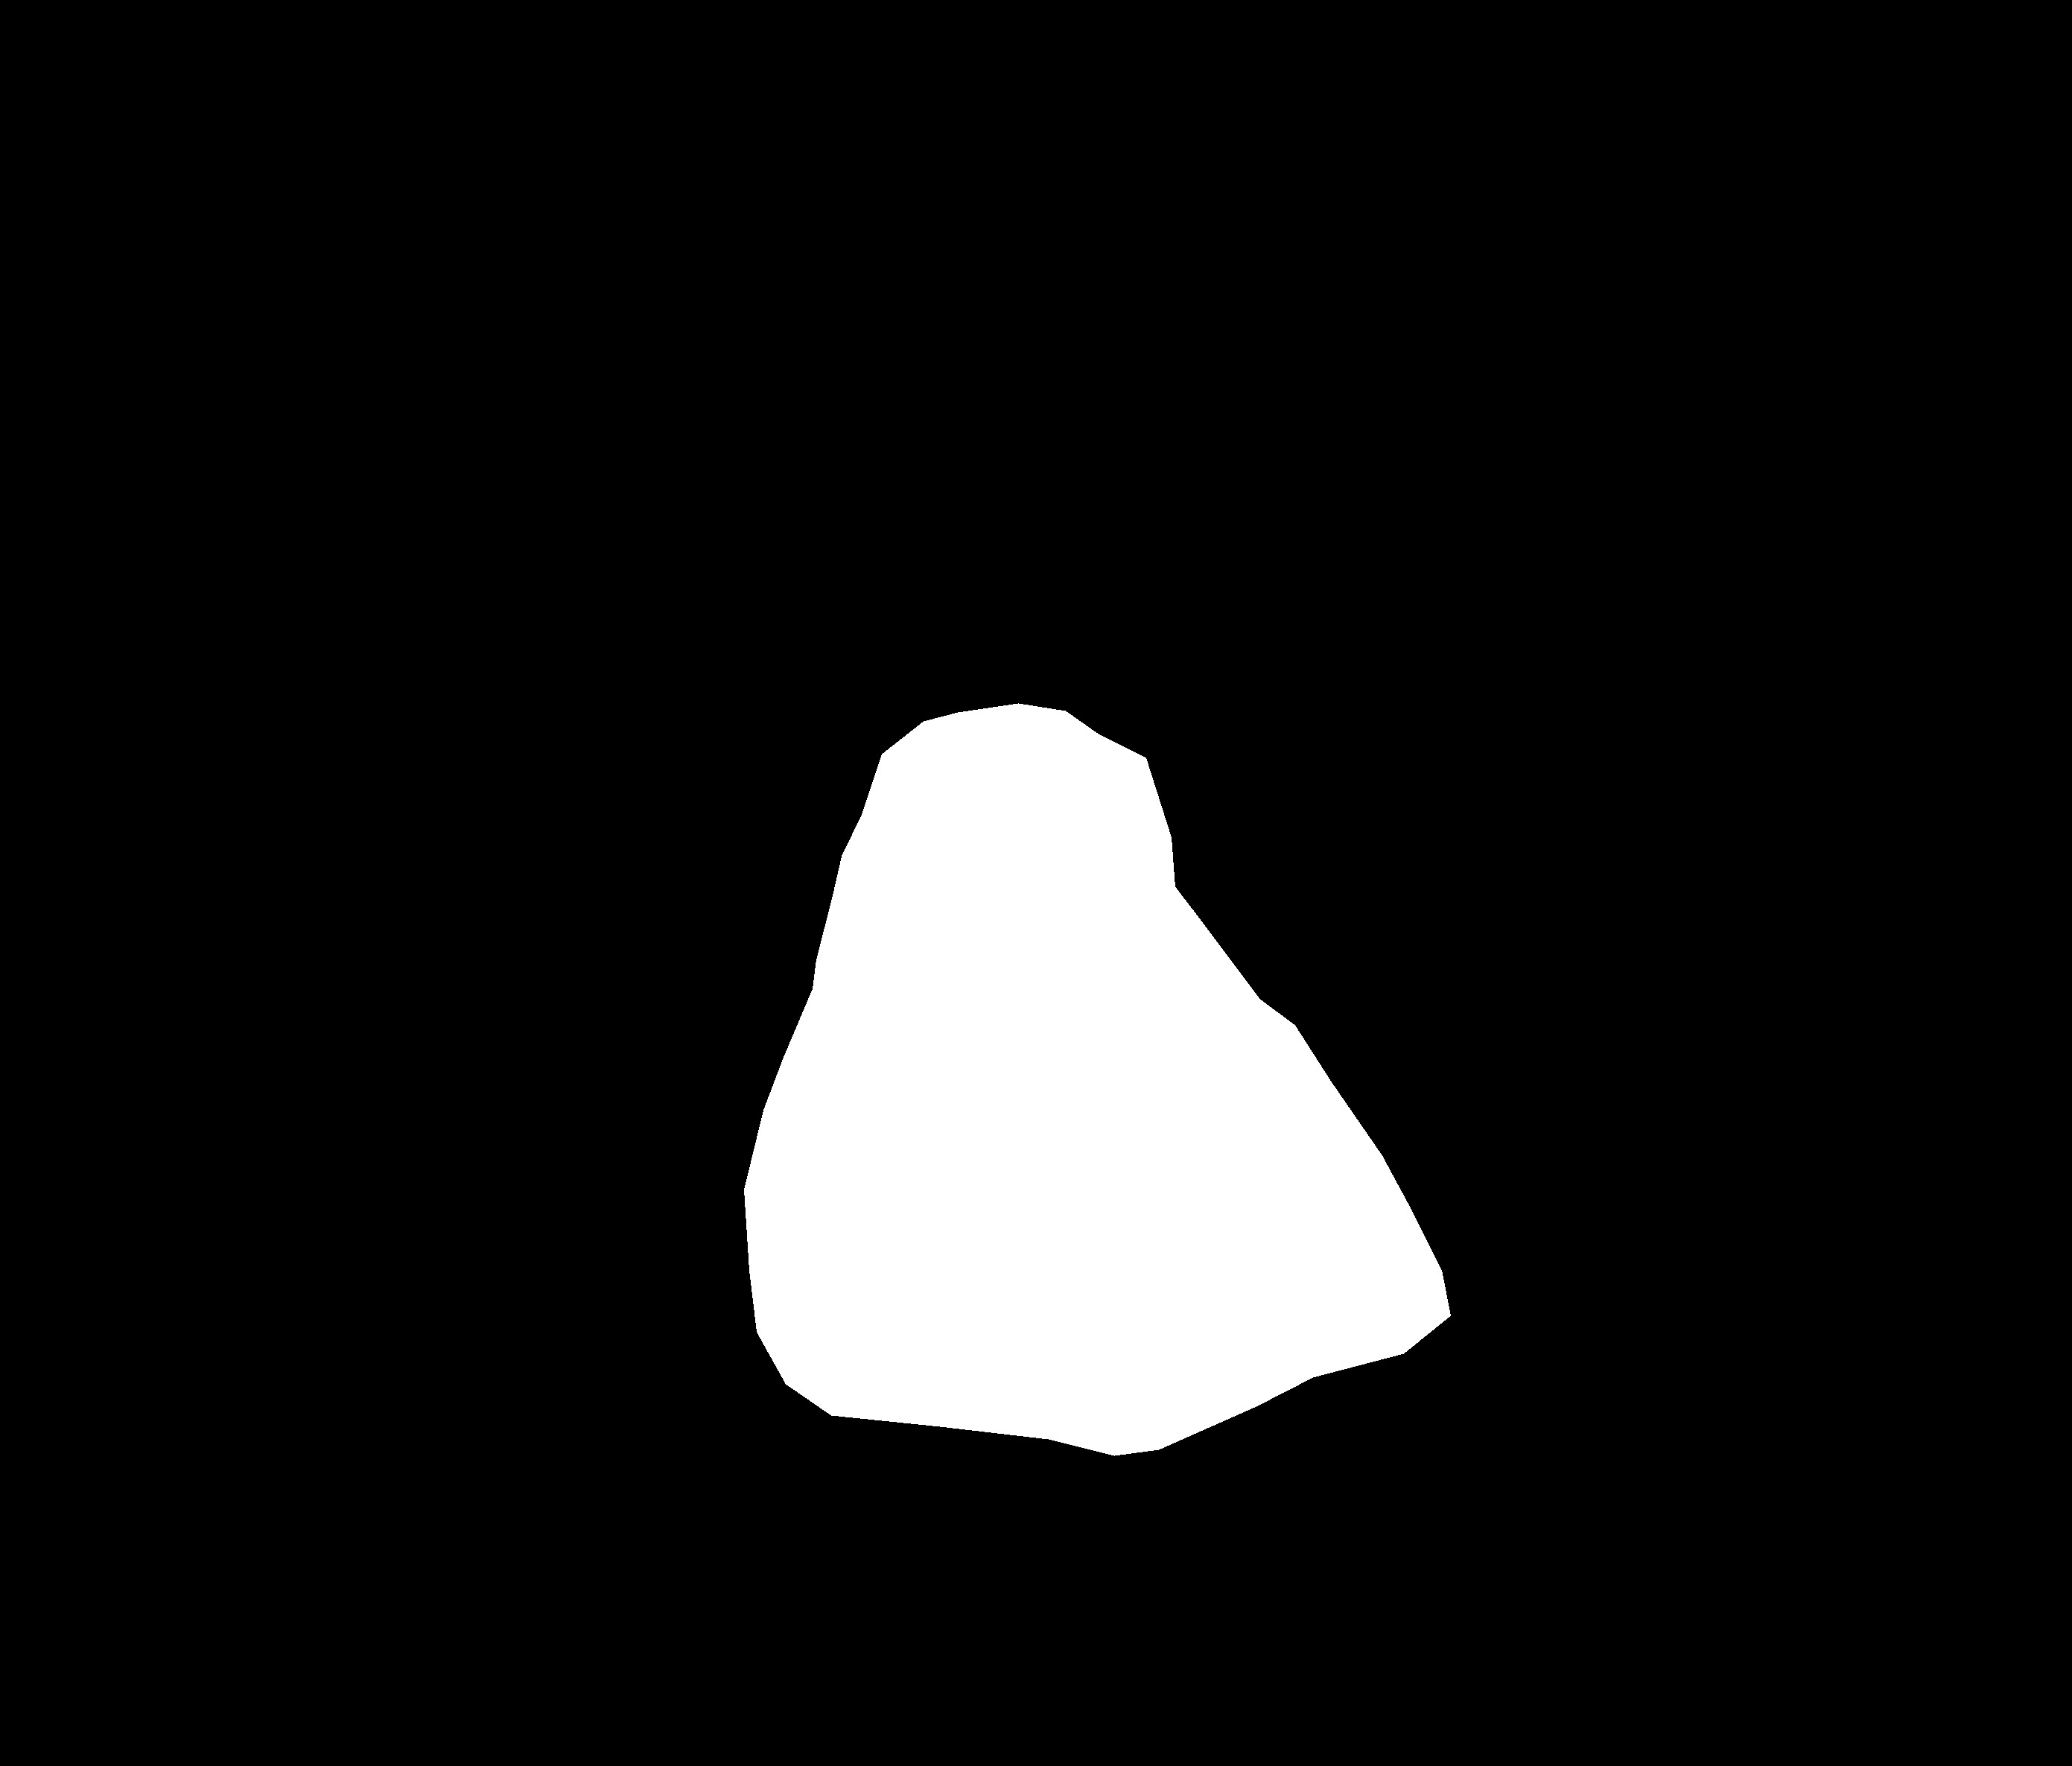heart: (744, 703, 1450, 1456)
left_lung: (116, 203, 944, 1421)
right_lung: (1086, 184, 1916, 1528)
